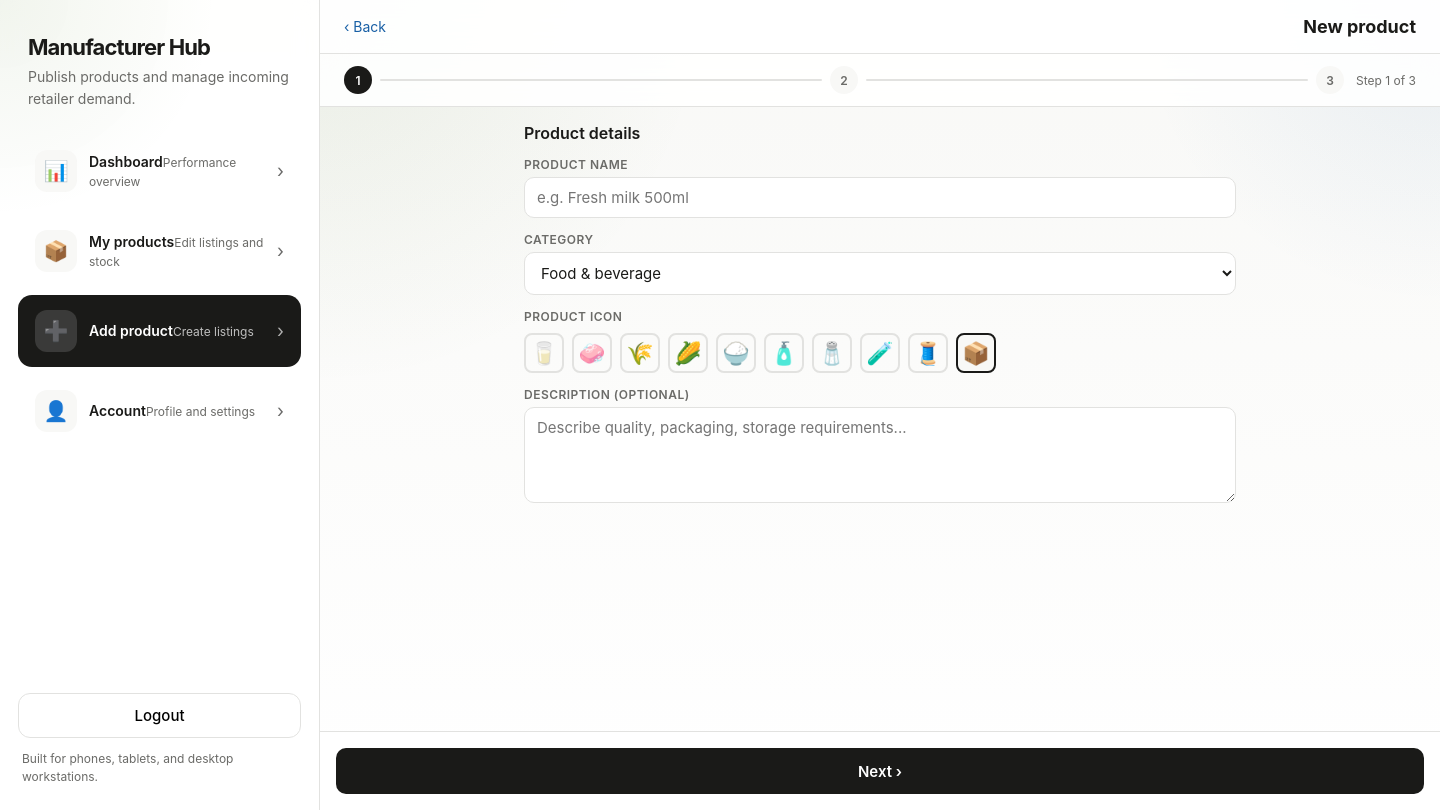
Test: publishing › refuses to publish without the required fields
Click the button "Next ›": (880, 771) [336,748,1424,794]
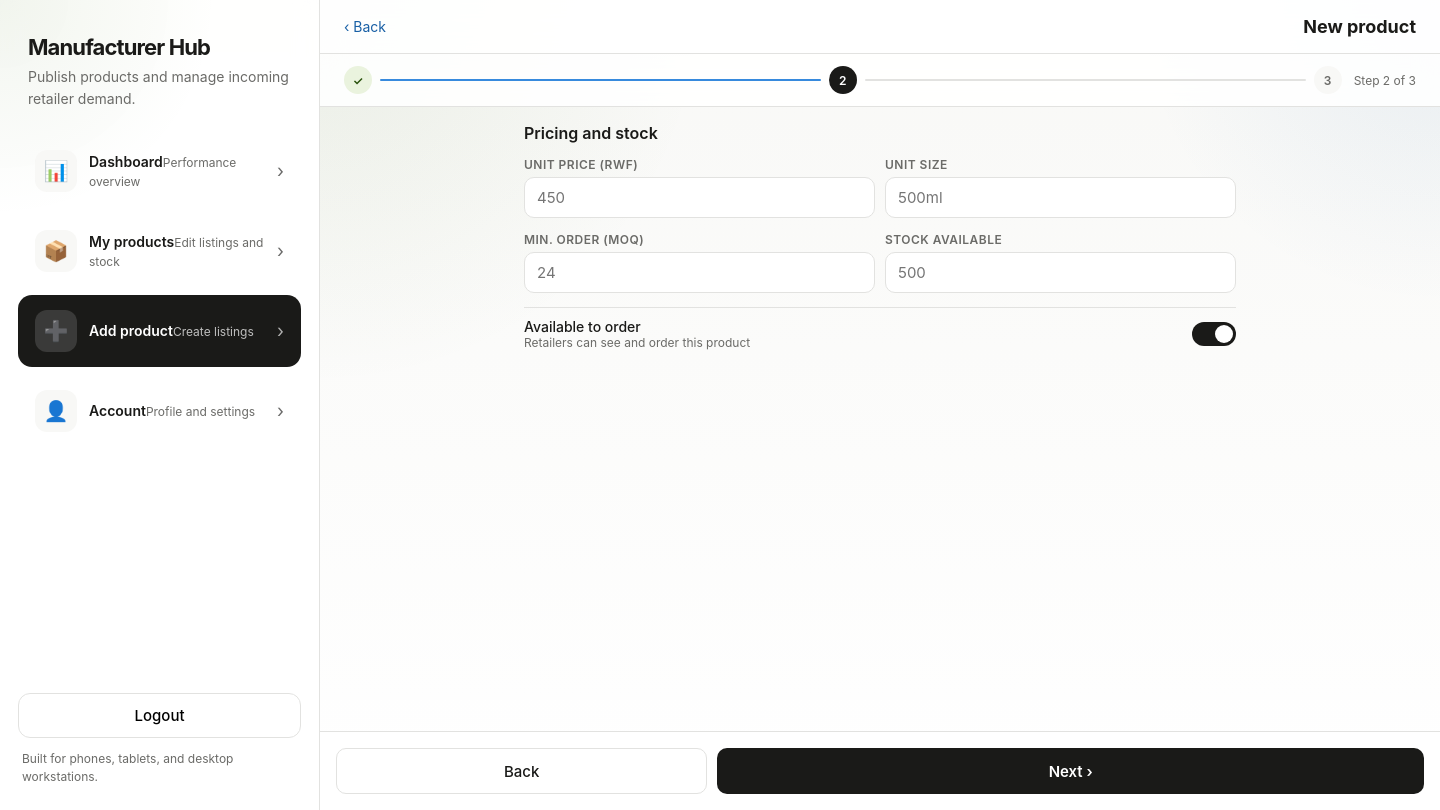
Click the button "Next ›": (1071, 771) [717,748,1424,794]
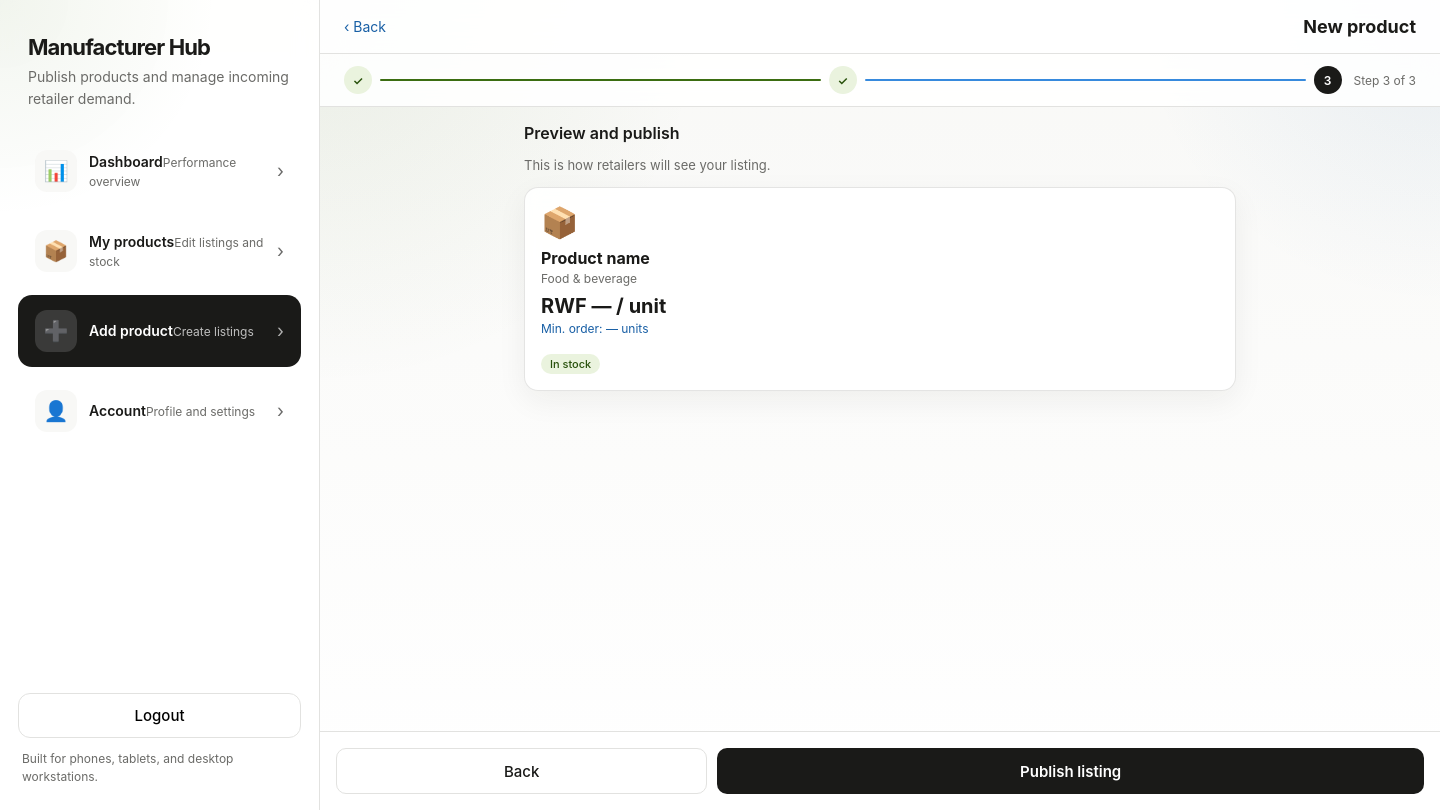
Click the button "Publish listing": (1071, 771) [717,748,1424,794]
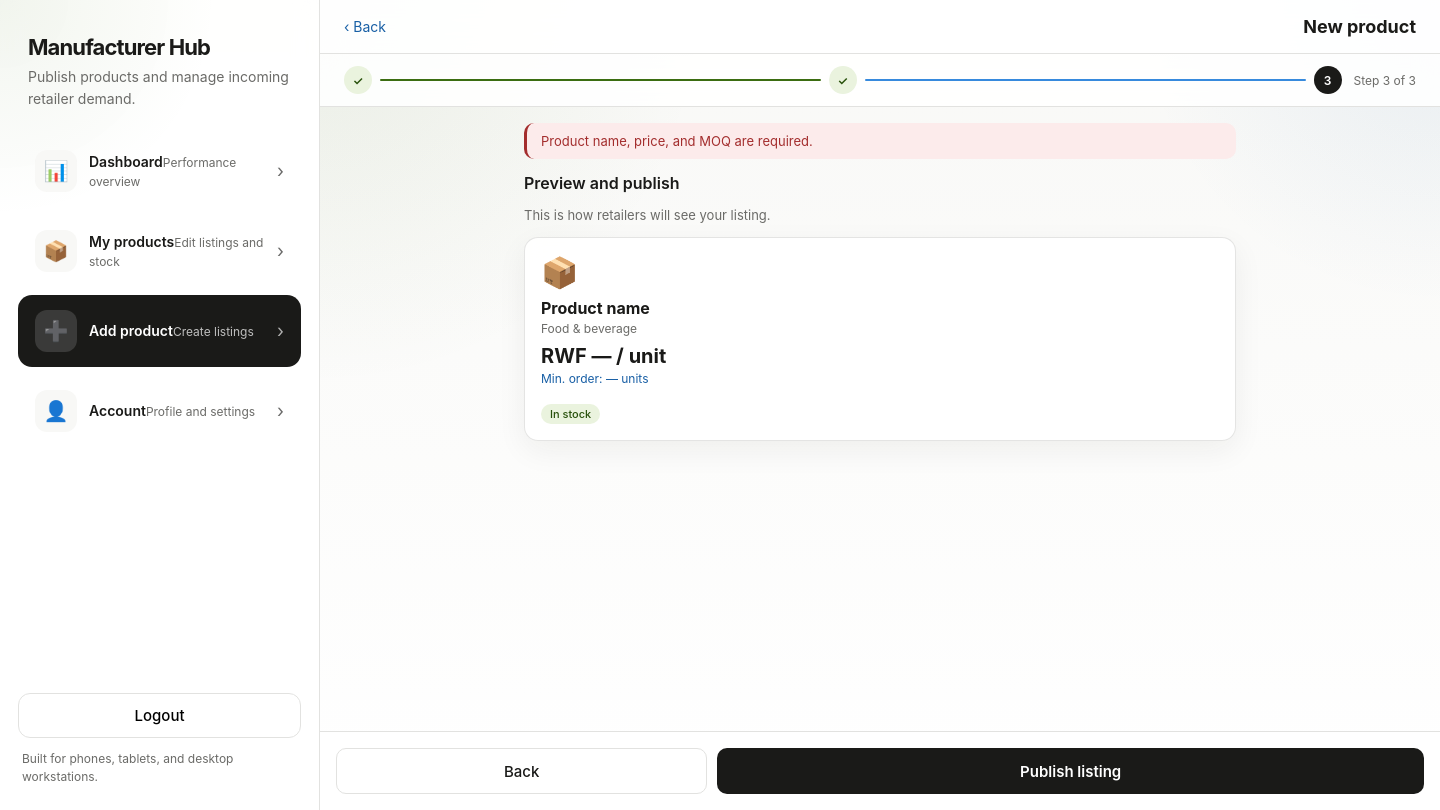
Now the text "Product name, price, and MOQ are required." is shown, box [524,123,1236,159]
